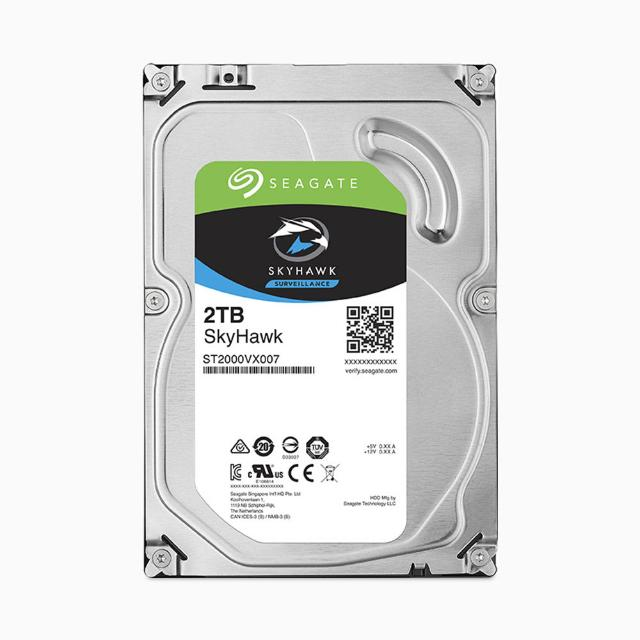HDD: (140, 60, 500, 584)
